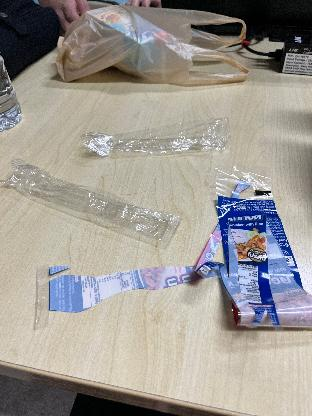Others: (194, 166, 312, 348), (4, 167, 186, 245), (73, 108, 237, 164)
